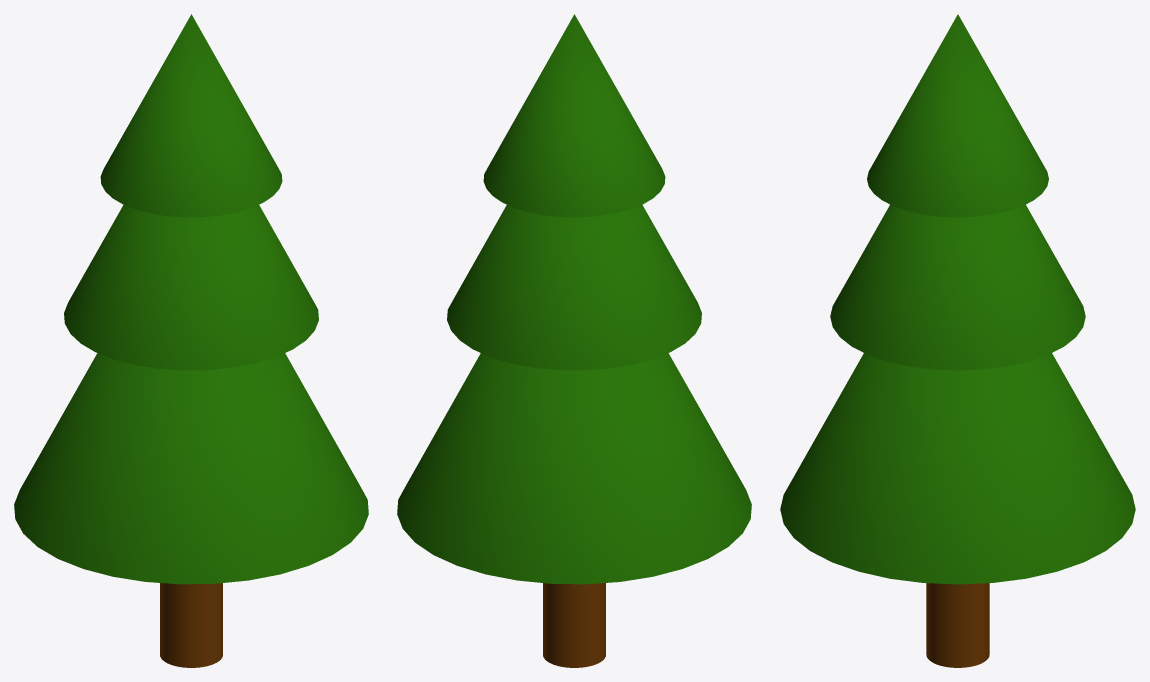
The model's file is spruce.glb.
3 views of the same model, side by side, from view 1: azimuth 30°, elevation 25°; view 2: azimuth 150°, elevation 25°; view 3: azimuth 270°, elevation 25° (orthographic).
Visible parts, largest first — view 1: Cone, Cone.001, Cone.002, Cylinder; view 2: Cone, Cone.001, Cone.002, Cylinder; view 3: Cone, Cone.001, Cone.002, Cylinder.
Part boxes in pixels (box(x1,y1,x2,y2)): Cone: box(14, 353, 368, 584); Cone.001: box(64, 205, 318, 370); Cone.002: box(100, 14, 282, 217); Cylinder: box(160, 583, 222, 667); Cone: box(397, 353, 751, 584); Cone.001: box(447, 205, 701, 370); Cone.002: box(483, 14, 665, 217); Cylinder: box(543, 583, 605, 667); Cone: box(780, 353, 1135, 584); Cone.001: box(830, 204, 1085, 370); Cone.002: box(867, 14, 1048, 217); Cylinder: box(926, 583, 989, 667).
Size of the model in its own units: 2 by 3.98 by 2.
